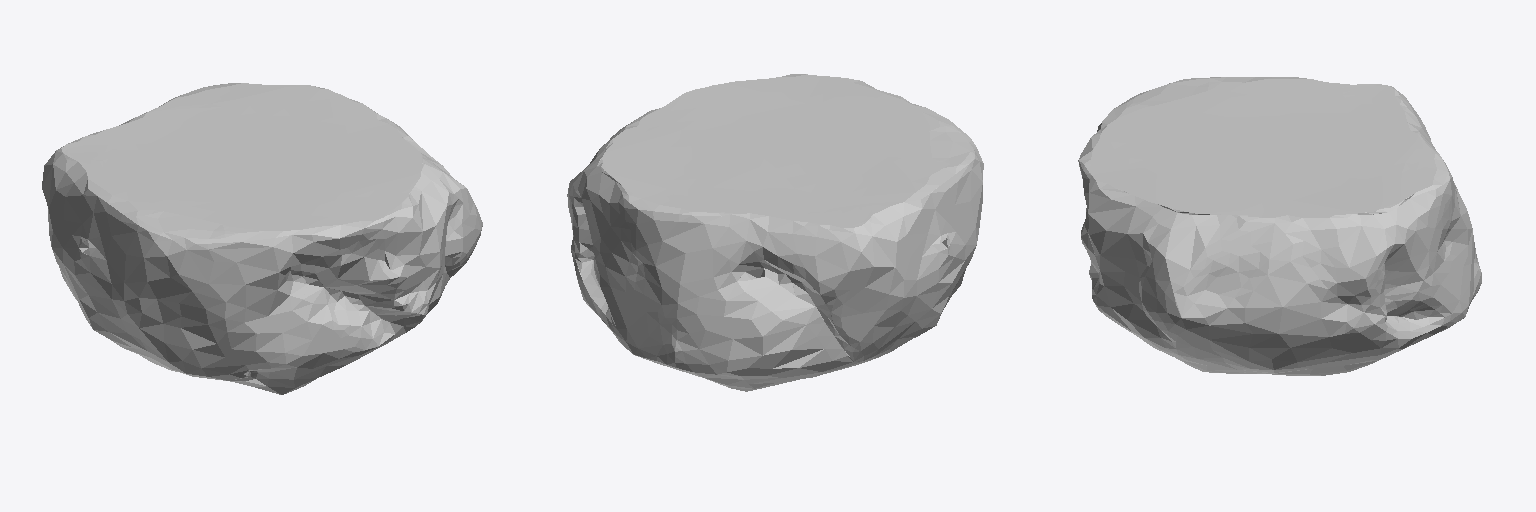
The model's file is Rock3.obj.
3 renders of one model, left to right at view 1: azimuth 30°, elevation 25°; view 2: azimuth 150°, elevation 25°; view 3: azimuth 270°, elevation 25°, orthographic.
Visible parts, largest first — view 1: Icosphere; view 2: Icosphere; view 3: Icosphere.
Part boxes in pixels (x1,y1,x2,y2): Icosphere: (42,83,482,394); Icosphere: (567,74,983,391); Icosphere: (1078,77,1481,375).
Size of the model in its own units: 19.2 by 10.62 by 18.86.